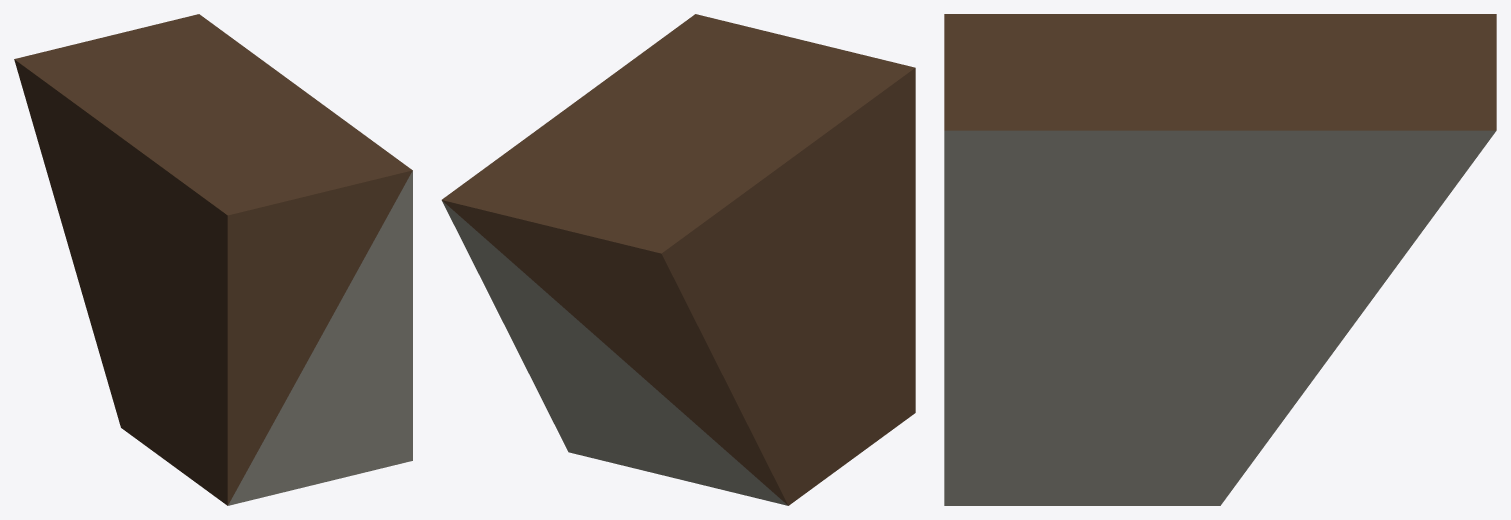
The picture shows the model from 3 angles, left to right: view 1: azimuth 30°, elevation 25°; view 2: azimuth 150°, elevation 25°; view 3: azimuth 270°, elevation 25°; orthographic projection. The views are drawn at different scales.
Visible parts, largest first — view 1: SM_Menaphite_Ruins_Roof_08_SM_Menaphite_Ruins_Roof_08_LOD0; view 2: SM_Menaphite_Ruins_Roof_08_SM_Menaphite_Ruins_Roof_08_LOD0; view 3: SM_Menaphite_Ruins_Roof_08_SM_Menaphite_Ruins_Roof_08_LOD0.
Part boxes in pixels (box(x1,y1,x2,y2)): SM_Menaphite_Ruins_Roof_08_SM_Menaphite_Ruins_Roof_08_LOD0: box(14, 14, 412, 505); SM_Menaphite_Ruins_Roof_08_SM_Menaphite_Ruins_Roof_08_LOD0: box(441, 14, 915, 505); SM_Menaphite_Ruins_Roof_08_SM_Menaphite_Ruins_Roof_08_LOD0: box(944, 14, 1496, 505).
Bounding box in the file's own units: 1 × 1.5 × 2.
